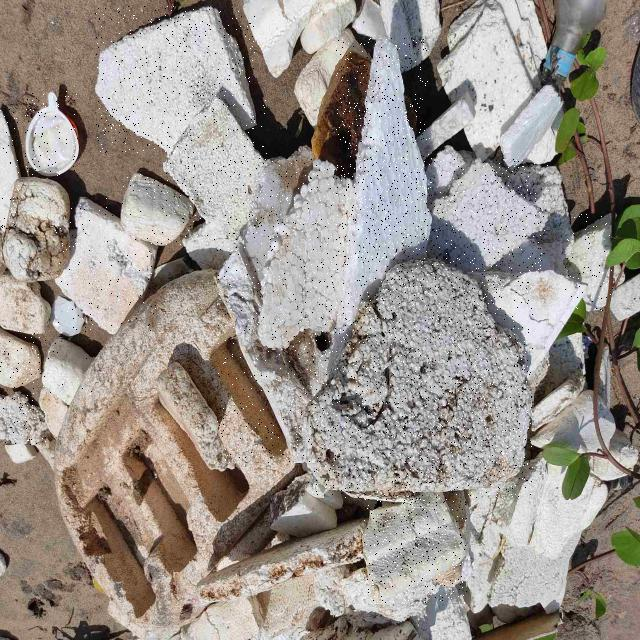plastic: (25, 91, 78, 176)
styrofoam: (308, 259, 533, 497), (336, 38, 432, 353), (95, 6, 256, 152), (217, 247, 312, 462), (259, 159, 353, 348), (163, 97, 267, 240), (55, 198, 157, 334), (428, 159, 549, 270), (364, 494, 467, 603), (120, 173, 194, 246), (566, 214, 613, 311), (41, 338, 93, 404), (0, 328, 41, 389), (0, 393, 46, 445), (0, 109, 19, 231)
